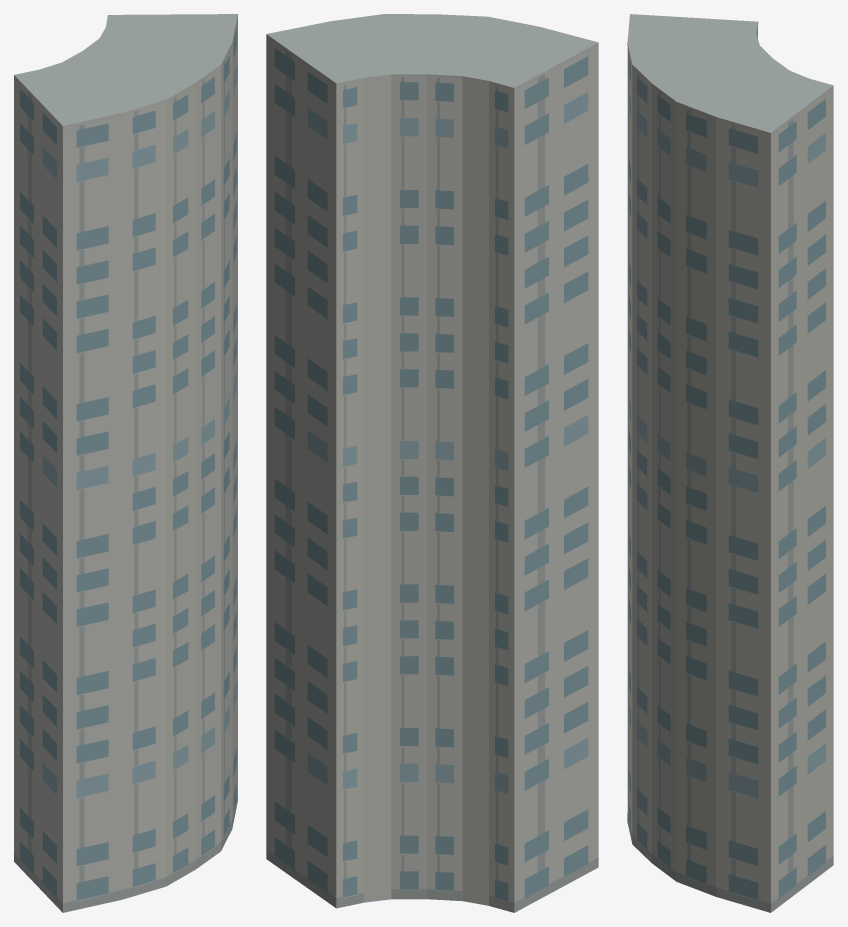
Rendered from survey-upis-32528495.glb.
3 views of the same model, side by side, from view 1: azimuth 30°, elevation 25°; view 2: azimuth 150°, elevation 25°; view 3: azimuth 270°, elevation 25° (orthographic). The views are drawn at different scales.
Visible parts, largest first — view 1: survey-upis-32528495.tmp; view 2: survey-upis-32528495.tmp; view 3: survey-upis-32528495.tmp.
Boxes of the visible parts, x1=… form: survey-upis-32528495.tmp: x1=14, y1=14, x2=237, y2=912; survey-upis-32528495.tmp: x1=266, y1=14, x2=598, y2=912; survey-upis-32528495.tmp: x1=627, y1=14, x2=833, y2=912.
Bounding box in the file's own units: 22.96 × 70.15 × 16.8.
